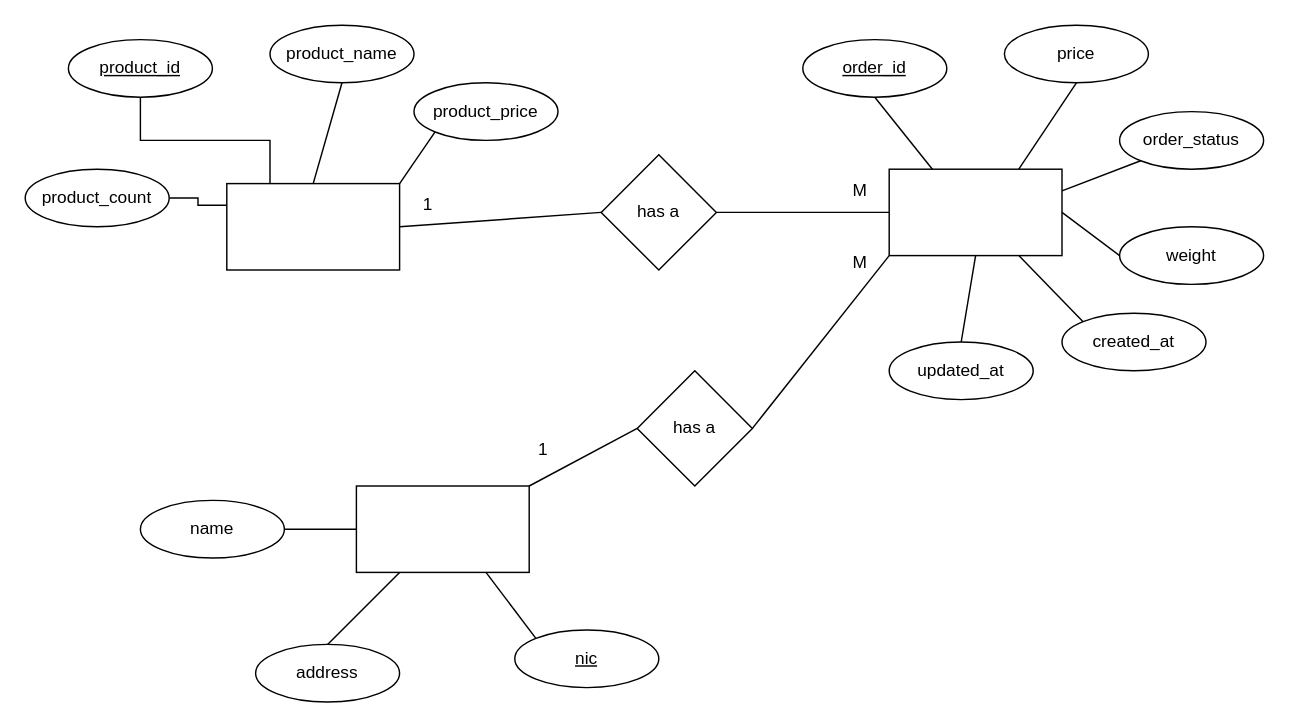
Image size: 1289x727. Some labels were removed from this diagram. Here are the shapes that lost their labels. From the top down, the box of each, then its label:
(225, 182, 400, 270): Product
(888, 168, 1062, 256): Order
(355, 485, 529, 572): User
